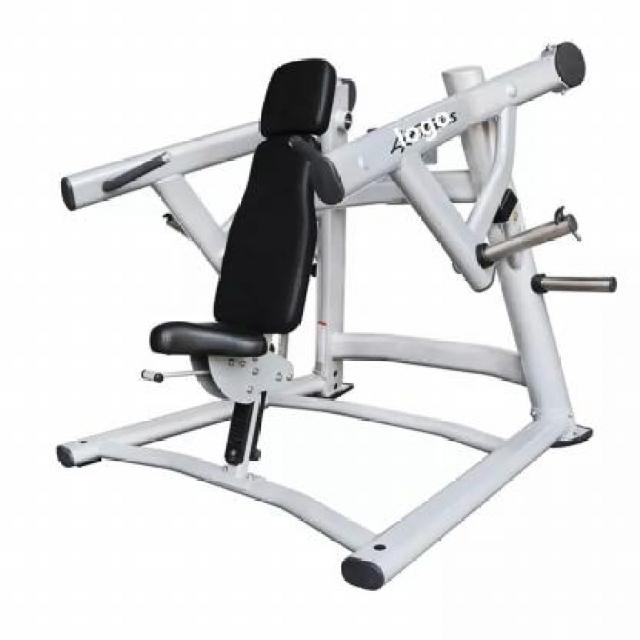shoulder press machine: (46, 18, 626, 596)
